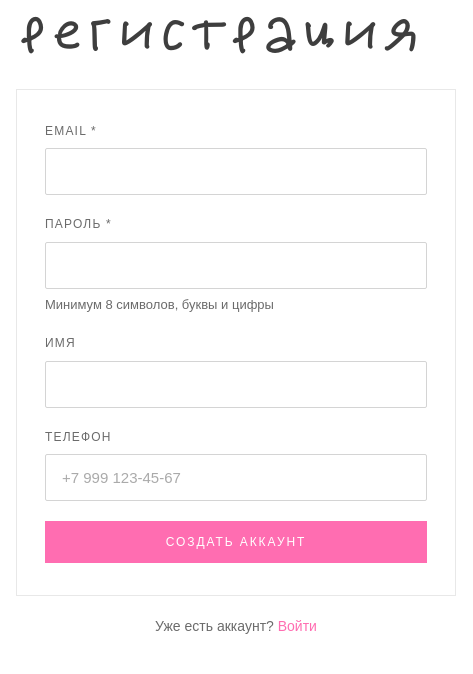
Scenario: Register page › validates email on blur
Type "not-an-email" into the field labelled "Email *". click: (236, 172)
box: [45,148,427,195]
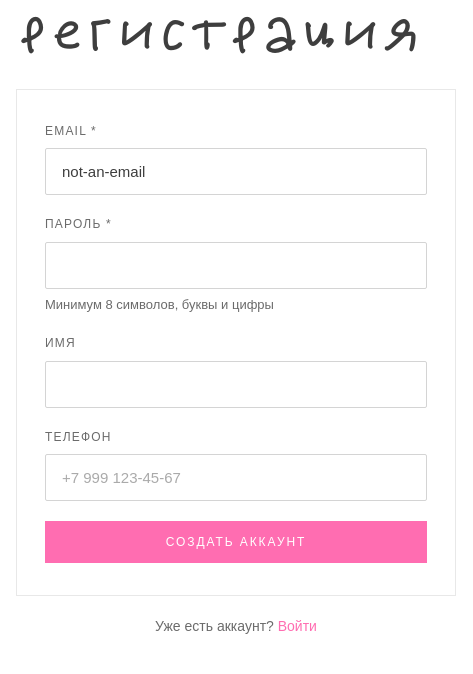
Leave the field labelled "Email *", box [45,148,427,195]
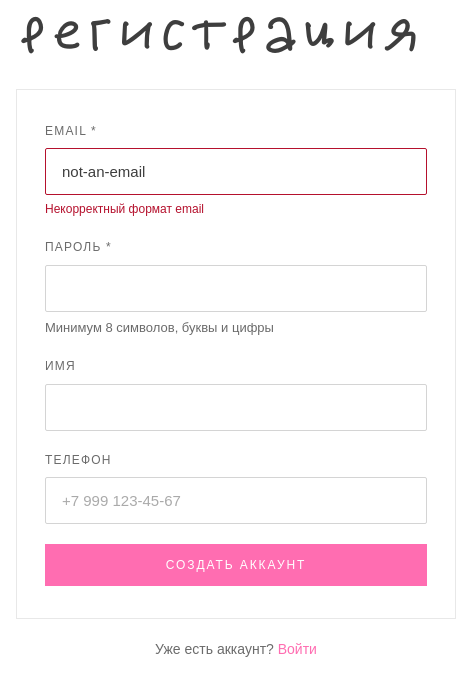
Now the text "Некорректный формат email" is shown, box [45,202,204,216]
